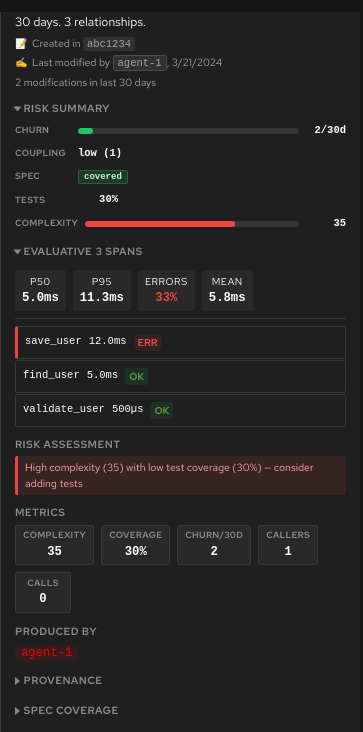
NodeDetailPanel -- evaluative tab › shows expanded span detail with attributes and input/output summary on click
Click the button with class "eval-span-row" showing "find_user 5.0ms OK" at (51,375), box [15,360,346,393]
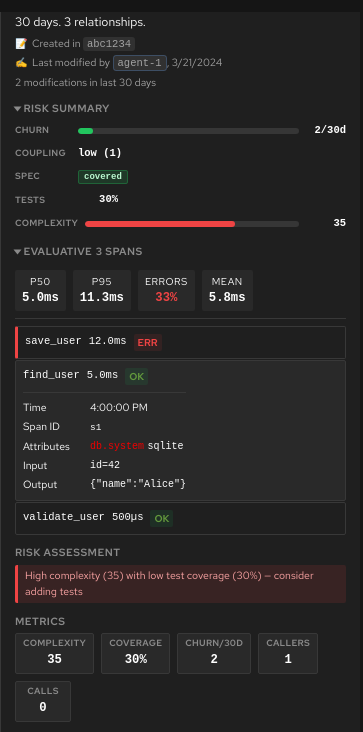
Result: the element with class "eval-span-detail" is shown at [23,392,186,493]
Result: the element with class "eval-attributes" is shown at [90,438,184,454]
Result: the element with class "eval-attributes" shows "db.system" at [90,440,144,452]
